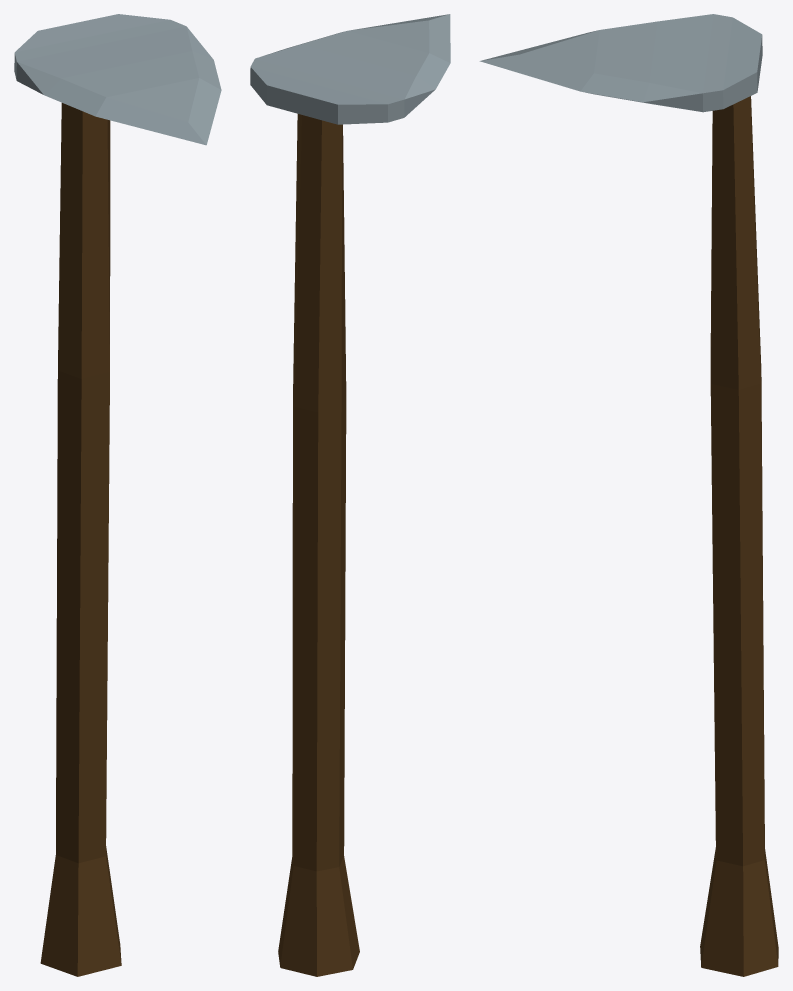
File: hoe.glb
3 renders of one model, left to right at view 1: azimuth 30°, elevation 25°; view 2: azimuth 150°, elevation 25°; view 3: azimuth 270°, elevation 25°, orthographic. The views are drawn at different scales.
Parts seen in each view (by area): view 1: dissipater.001; view 2: dissipater.001; view 3: dissipater.001.
Part boxes in pixels (bbox=[...]): dissipater.001: bbox=[14, 14, 221, 976]; dissipater.001: bbox=[250, 14, 450, 976]; dissipater.001: bbox=[479, 14, 778, 976].
Bounding box in the file's own units: 0.3076 × 1.63 × 0.4855.
